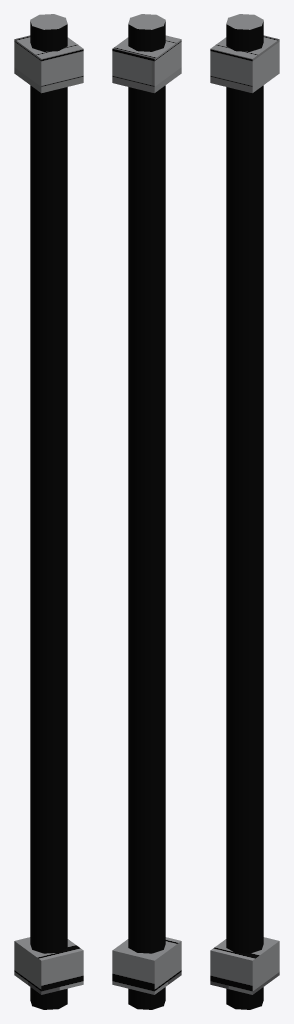
3 views of the same model, side by side, from view 1: azimuth 30°, elevation 25°; view 2: azimuth 150°, elevation 25°; view 3: azimuth 330°, elevation 25° (orthographic).
Size of the model in its own units: 0.045 by 1 by 0.05.
